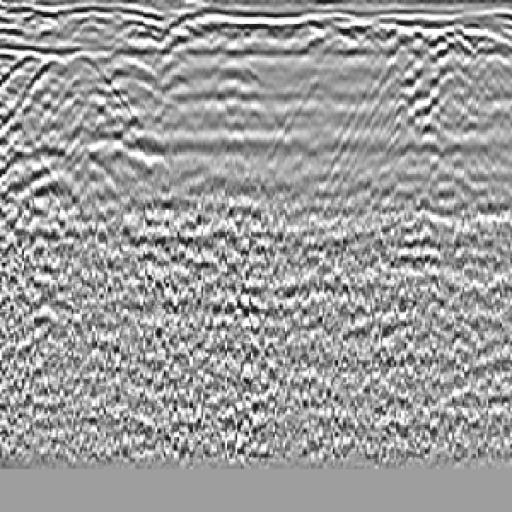non-metallic: (1, 39, 167, 226)
